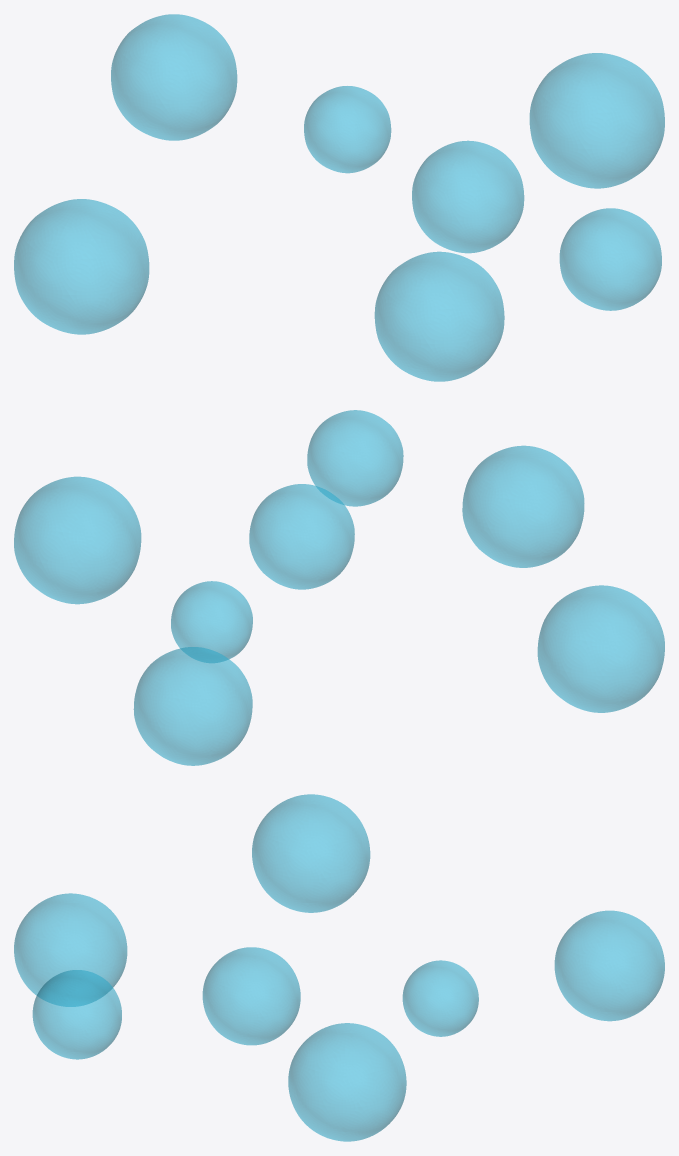
The model's file is waterSky002_01.fbx.
3 views of the same model, one above another, from view 1: azimuth 30°, elevation 25°; view 2: azimuth 150°, elevation 25°; view 3: azimuth 270°, elevation 25° (orthographic). The views are drawn at different scales.
Visible parts, largest first — view 1: waterSky002.001; view 2: waterSky002.001; view 3: waterSky002.001.
Boxes of the visible parts, box(x1,y1,x2,y2) form: waterSky002.001: box(14, 14, 664, 381); waterSky002.001: box(14, 410, 664, 765); waterSky002.001: box(14, 794, 664, 1141).
Size of the model in its own units: 162 by 29.32 by 159.
